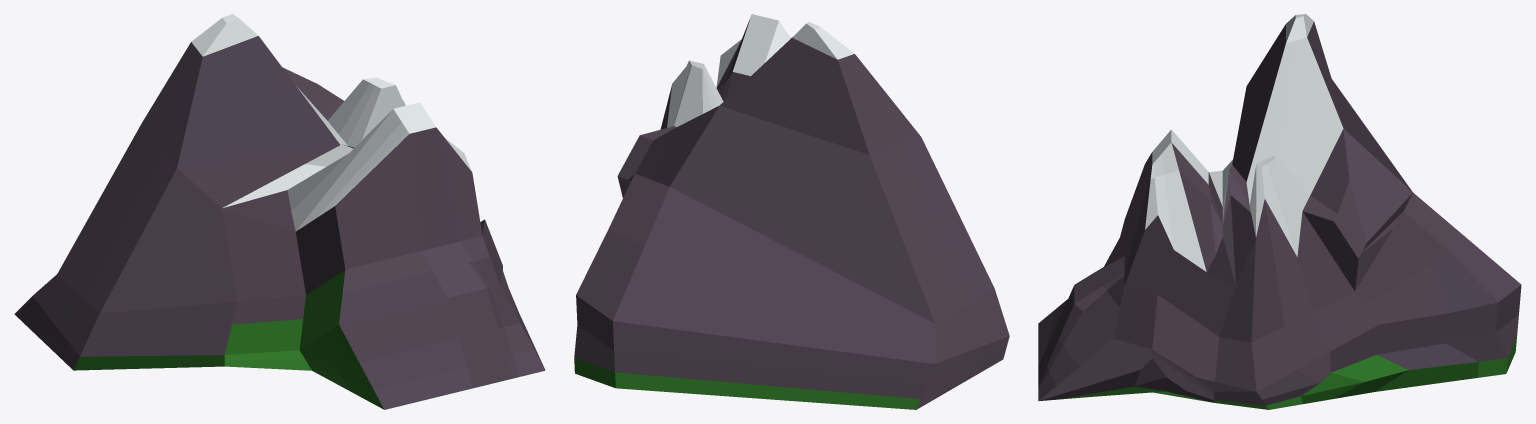
Rendered from mountain.fbx.
The picture shows the model from 3 angles, left to right: view 1: azimuth 30°, elevation 25°; view 2: azimuth 150°, elevation 25°; view 3: azimuth 270°, elevation 25°; orthographic projection. The views are drawn at different scales.
Visible parts, largest first — view 1: Cube; view 2: Cube; view 3: Cube.
Part boxes in pixels (bbox=[...]): Cube: bbox=[14, 14, 545, 409]; Cube: bbox=[574, 14, 1009, 409]; Cube: bbox=[1038, 14, 1521, 409].
Size of the model in its own units: 3455 by 2647 by 3878.
